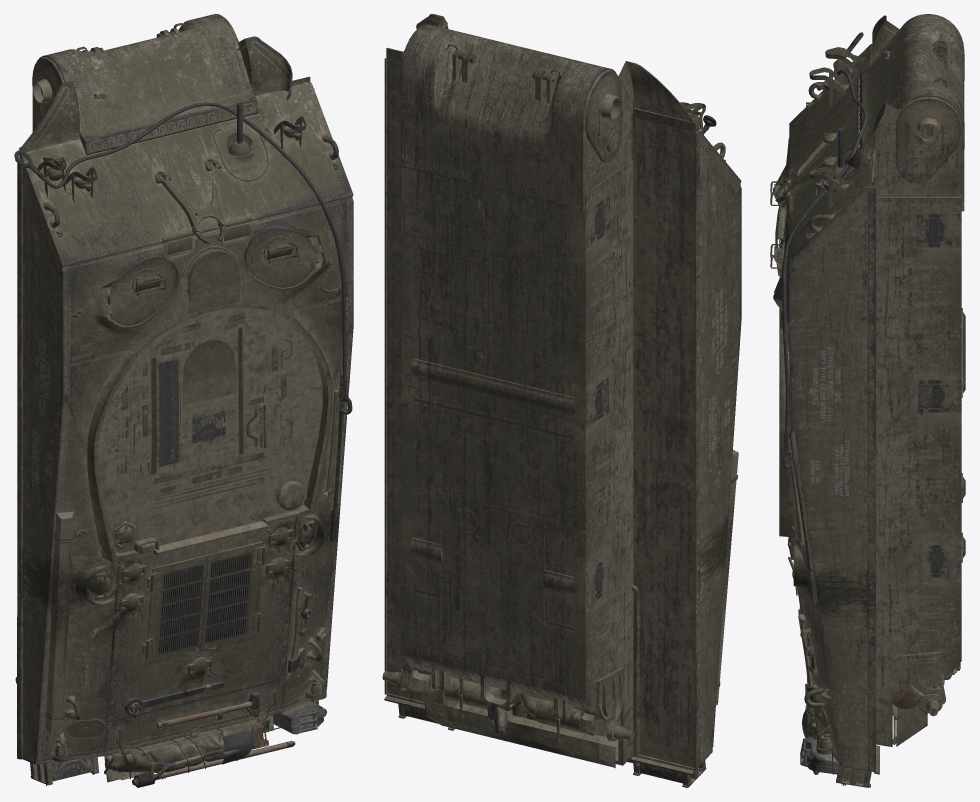
The model's file is Hull.glb.
3 renders of one model, left to right at view 1: azimuth 30°, elevation 25°; view 2: azimuth 150°, elevation 25°; view 3: azimuth 270°, elevation 25°, orthographic. The views are drawn at different scales.
Parts seen in each view (by area): view 1: set_0_group_0; view 2: set_0_group_0; view 3: set_0_group_0.
Boxes of the visible parts, x1,y1,x2,y2 form: set_0_group_0: [14, 14, 353, 787]; set_0_group_0: [382, 14, 741, 787]; set_0_group_0: [770, 14, 965, 787].
Bounding box in the file's own units: 2.75 × 6 × 1.57.
1 material, 1 textured.
